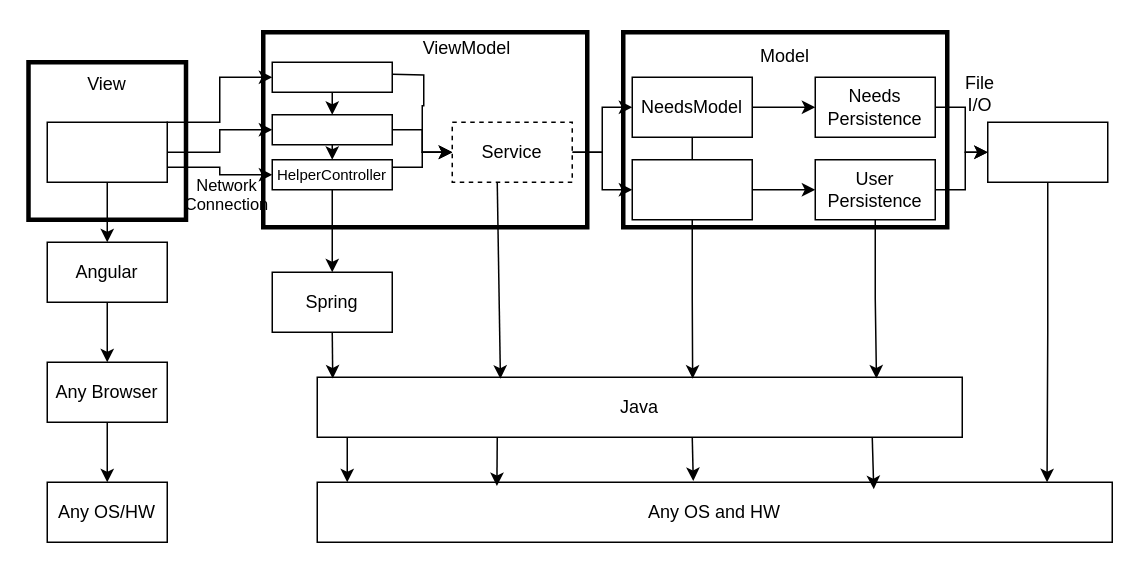
Some shapes in this 1139 by 569 pixel diagram are drawn without their labels. Here are the shapes that lost their labels. From the top down, the centre of each, then its label:
At (x=331, y=76): "NeedsController".
At (x=331, y=129): "UserController".
At (x=106, y=151): "Client UI".
At (x=1047, y=151): "Storage".
At (x=691, y=189): "UserModel".
